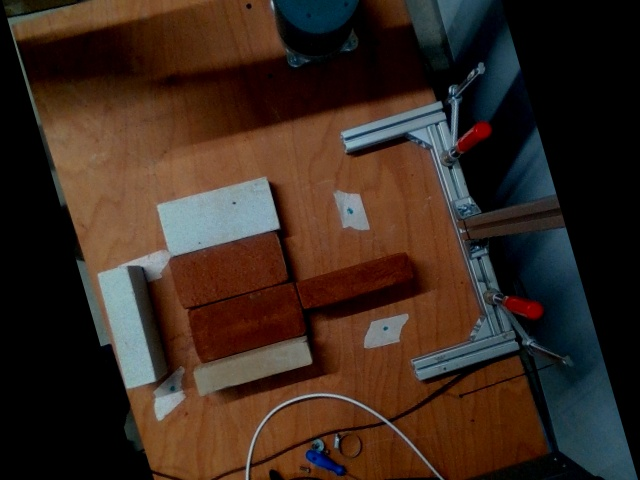brick: (155, 178, 279, 257), (188, 283, 306, 363), (170, 233, 285, 306)
brick-side: (99, 268, 154, 388), (193, 342, 311, 397), (296, 254, 409, 310)
